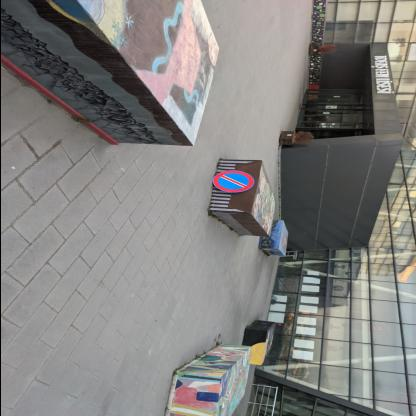No Waiting: (213, 172, 255, 194)
